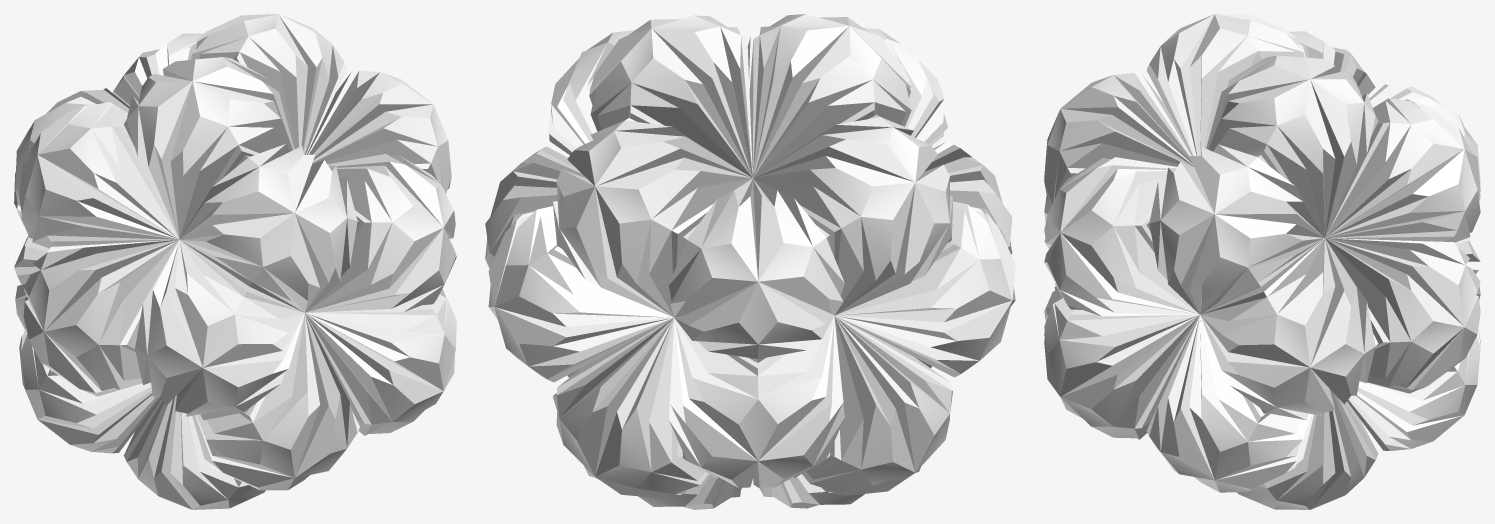
File: Dust.fbx
3 renders of one model, left to right at view 1: azimuth 30°, elevation 25°; view 2: azimuth 150°, elevation 25°; view 3: azimuth 270°, elevation 25°, orthographic. The views are drawn at different scales.
Visible parts, largest first — view 1: pPlatonic1; view 2: pPlatonic1; view 3: pPlatonic1.
Boxes of the visible parts, x1,y1,x2,y2 form: pPlatonic1: (14,14,456,509); pPlatonic1: (485,14,1015,509); pPlatonic1: (1044,14,1480,509).
Size of the model in its own units: 3.58 by 3.46 by 3.12.
Materials: 1 (1 with a texture image).
